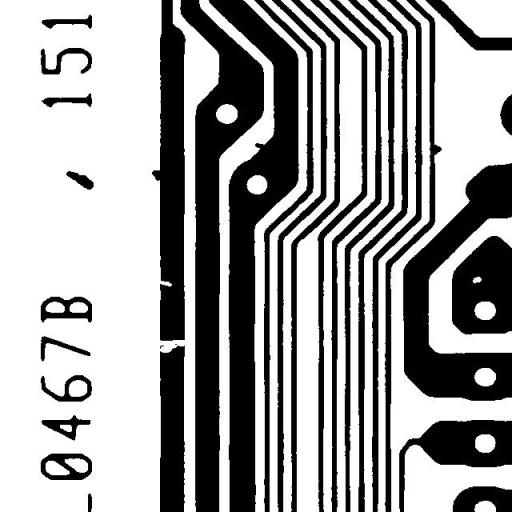copper: (58, 163, 101, 197)
mousebite: (150, 272, 179, 294)
open: (146, 331, 194, 360)
pin-hole: (465, 269, 489, 290)
spur: (144, 162, 169, 188), (423, 137, 449, 162), (248, 136, 274, 158)
